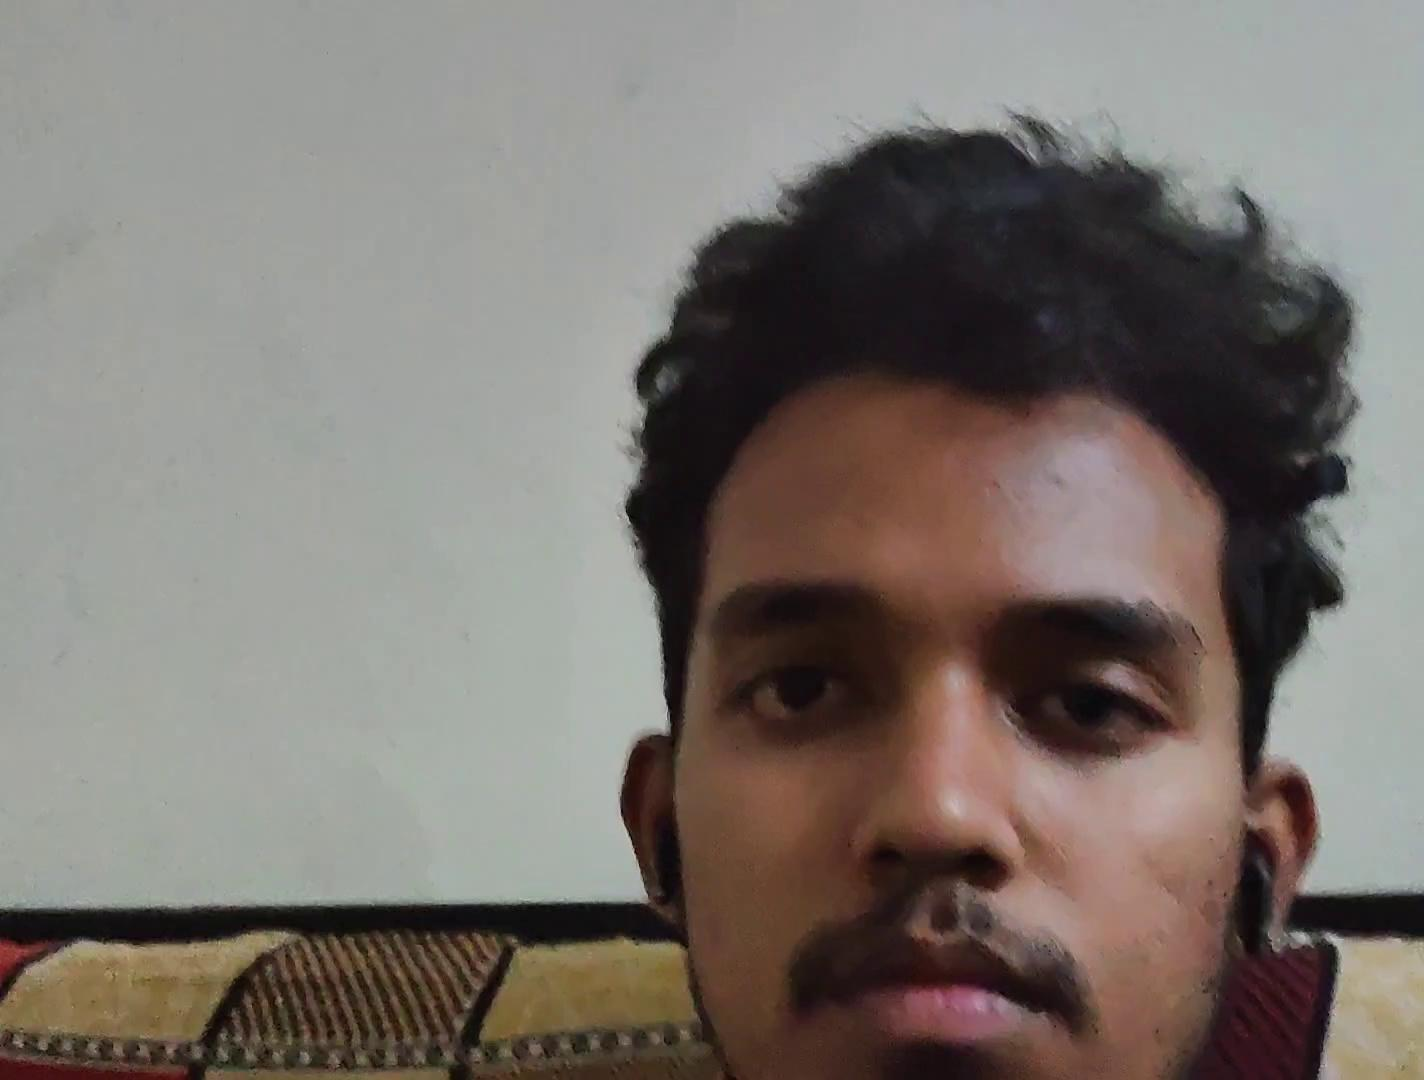face: (671, 380, 1248, 1078)
